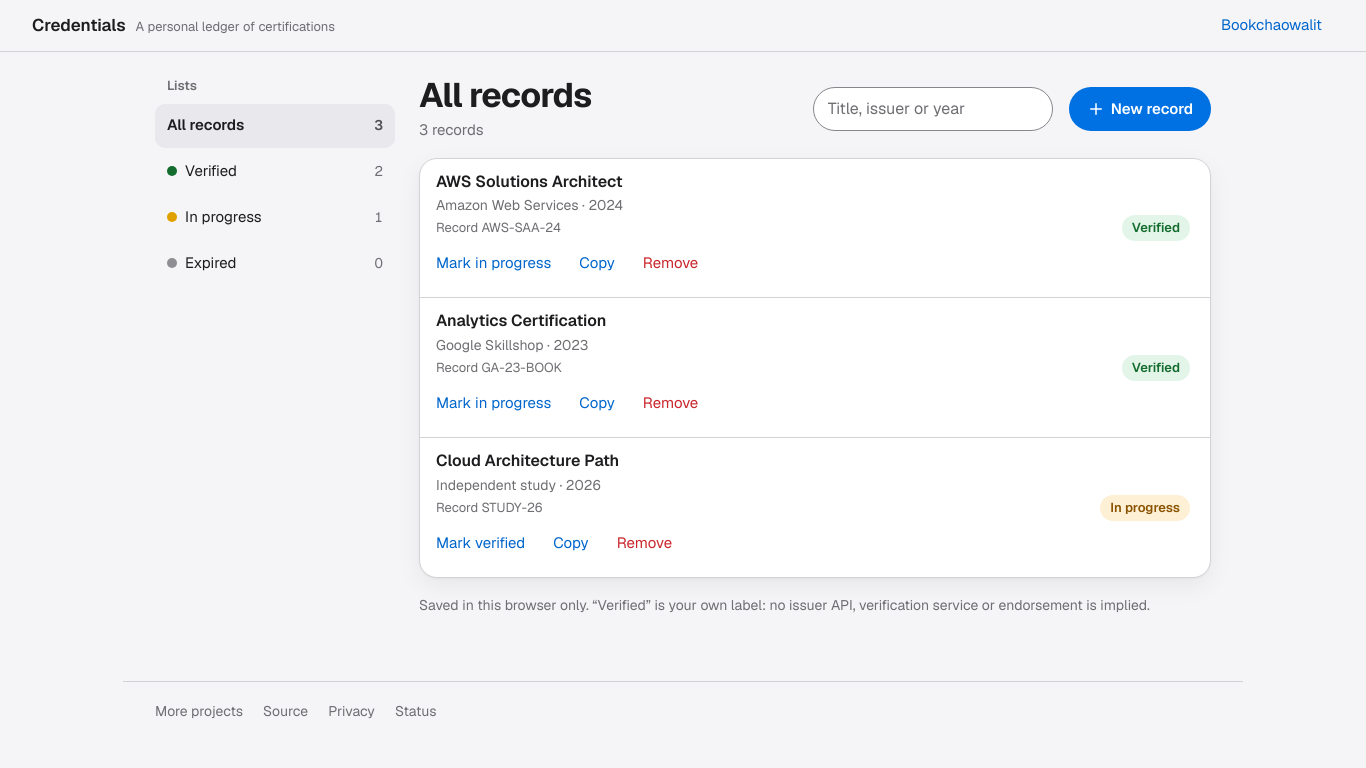
row actions › closes the toast on Escape, and by itself after a few seconds
The width and height of the screenshot is (1366, 768).
Click the button "Remove" below "AWS-SAA-24" at x=670, y=264, box [631,242,710,286]
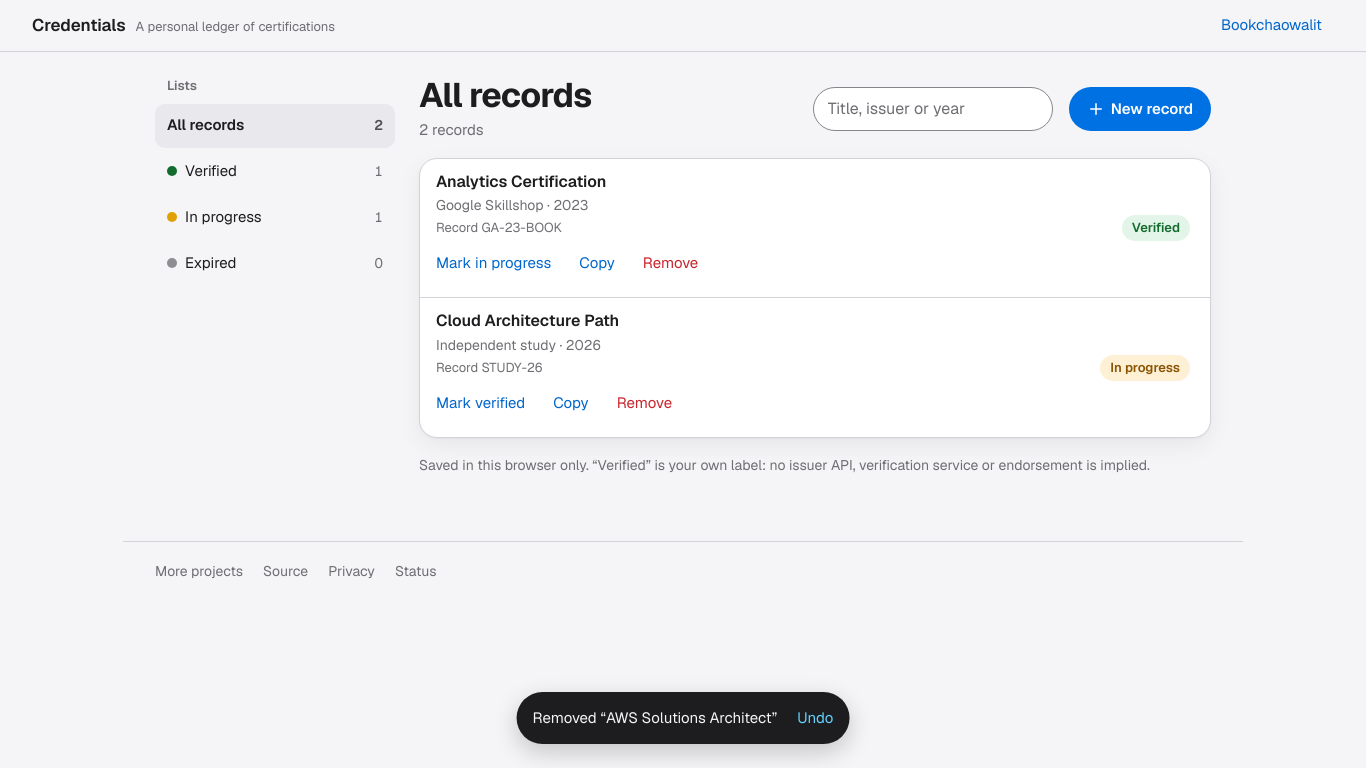
Press Escape in the element with class "as-toast", box [517,692,850,744]
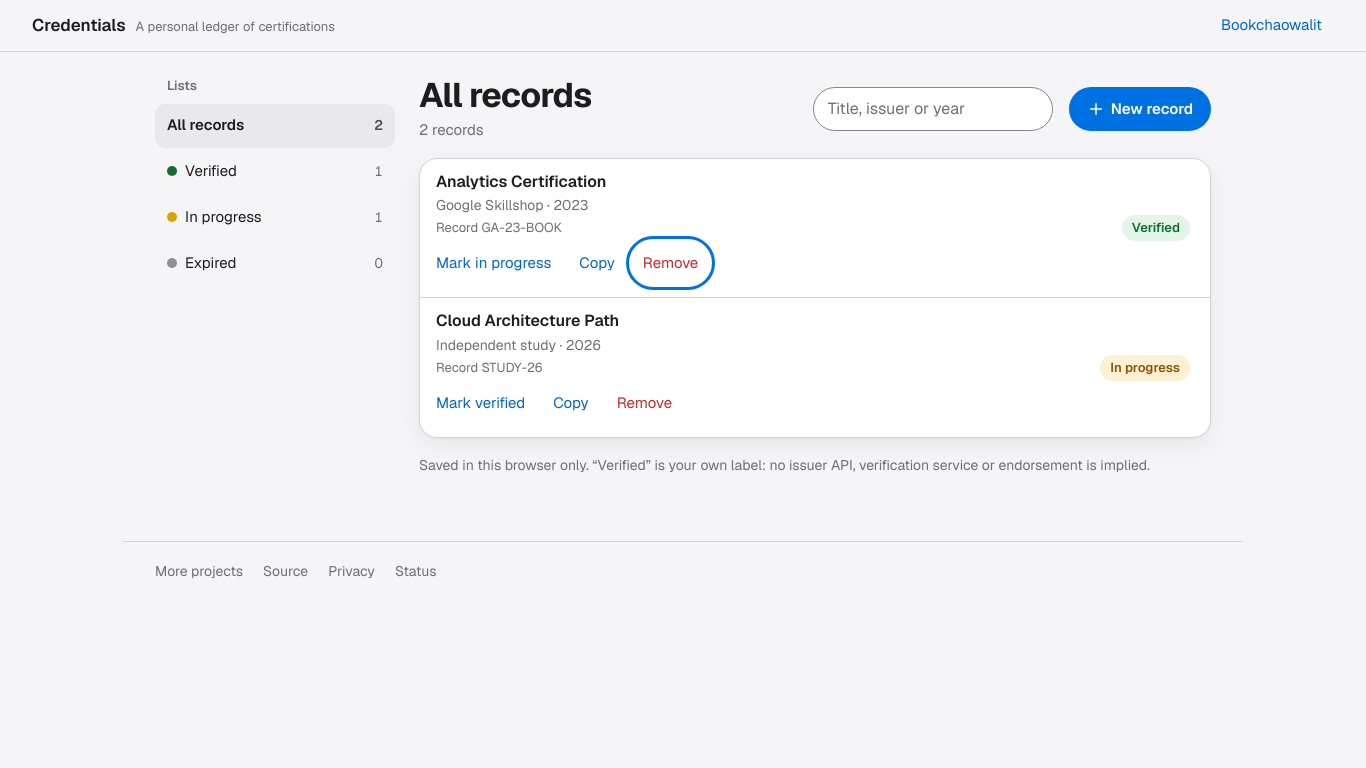
Expected: the element with class "as-toast" is gone
Click the button "Remove" below "STUDY-26" at x=644, y=403, box [605,381,684,425]
Wait 6100 ms
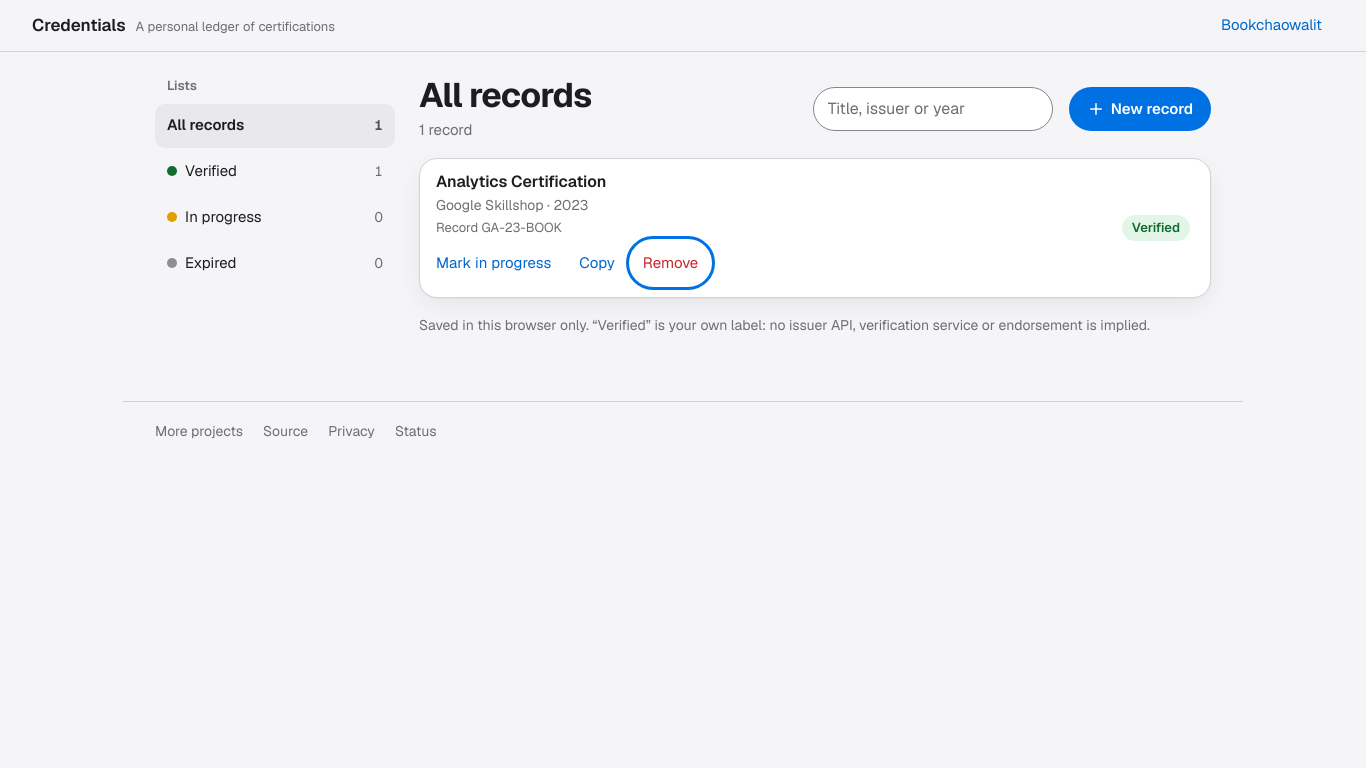
Click the button "Remove" at x=670, y=264, box [631,242,710,286]
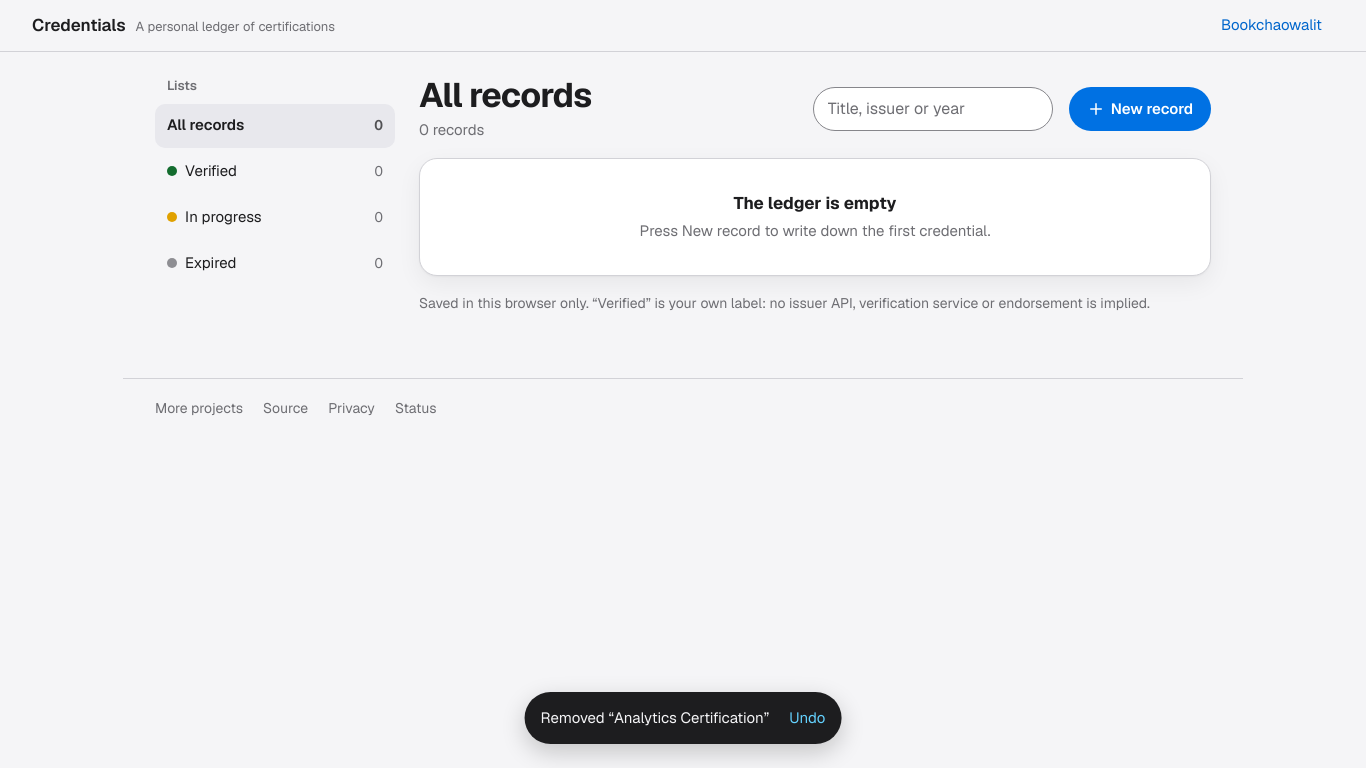
Expected: the text "The ledger is empty" is shown, [734,192,896,214]
